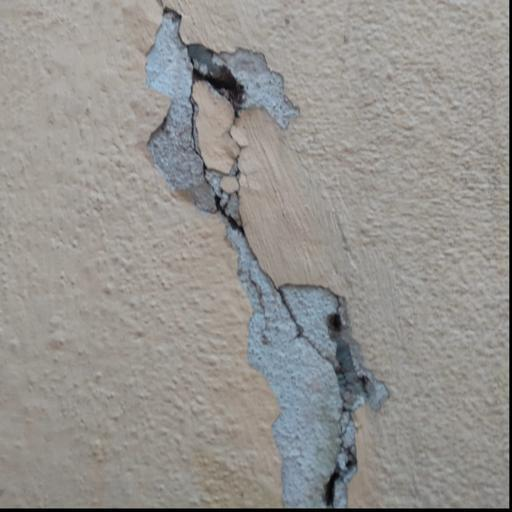major_crack: (139, 0, 406, 512)
